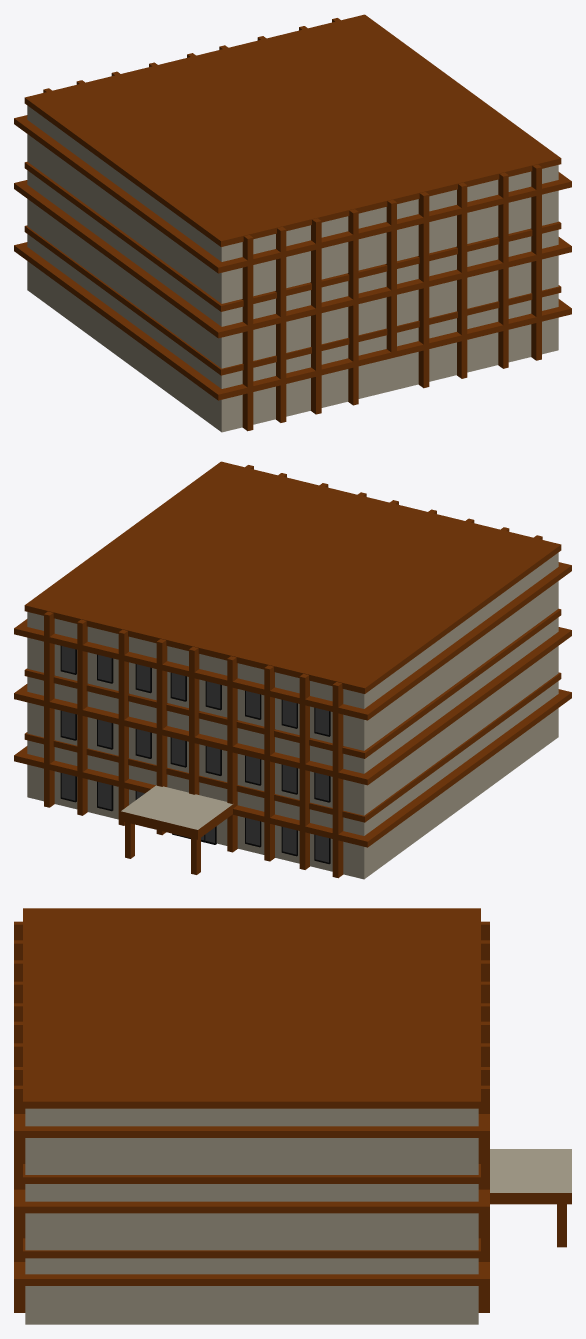
Rendered from phyedu.fbx.
The picture shows the model from 3 angles, top to bottom: view 1: azimuth 30°, elevation 25°; view 2: azimuth 150°, elevation 25°; view 3: azimuth 270°, elevation 25°; orthographic projection. The views are drawn at different scales.
Parts seen in each view (by area): view 1: polySurface60, polySurface236, polySurface38, polySurface137, polySurface37, polySurface136, polySurface331, polySurface159, polySurface258, polySurface339, polySurface332, polySurface337 (+6 smaller); view 2: polySurface60, polySurface38, polySurface137, polySurface236, polySurface37, polySurface136, polySurface331, polySurface159, pCube9, polySurface258, polySurface339, polySurface335 (+7 smaller); view 3: polySurface60, polySurface38, polySurface137, polySurface236, polySurface136, polySurface37, polySurface331, pCube9, polySurface258, polySurface159, polySurface337.
Boxes of the visible parts, bbox=[...] form: polySurface60: bbox=[24, 14, 561, 246]; polySurface236: bbox=[27, 234, 558, 432]; polySurface38: bbox=[27, 105, 558, 303]; polySurface137: bbox=[27, 170, 558, 368]; polySurface37: bbox=[14, 115, 571, 273]; polySurface136: bbox=[14, 180, 571, 338]; polySurface331: bbox=[14, 242, 571, 400]; polySurface159: bbox=[24, 161, 561, 311]; polySurface258: bbox=[24, 225, 561, 375]; polySurface339: bbox=[43, 88, 253, 431]; polySurface332: bbox=[219, 45, 429, 388]; polySurface337: bbox=[332, 18, 541, 360]; polySurface60: bbox=[24, 461, 561, 693]; polySurface38: bbox=[27, 552, 558, 750]; polySurface137: bbox=[27, 617, 558, 815]; polySurface236: bbox=[27, 681, 558, 879]; polySurface37: bbox=[14, 562, 571, 720]; polySurface136: bbox=[14, 627, 571, 785]; polySurface331: bbox=[14, 689, 571, 847]; polySurface159: bbox=[24, 608, 561, 758]; pCube9: bbox=[121, 785, 233, 839]; polySurface258: bbox=[24, 672, 561, 822]; polySurface339: bbox=[332, 535, 542, 878]; polySurface335: bbox=[77, 473, 286, 815]; polySurface60: bbox=[23, 908, 480, 1108]; polySurface38: bbox=[25, 1108, 478, 1174]; polySurface137: bbox=[25, 1184, 478, 1250]; polySurface236: bbox=[25, 1258, 478, 1324]; polySurface136: bbox=[14, 1189, 489, 1213]; polySurface37: bbox=[14, 1114, 489, 1137]; polySurface331: bbox=[14, 1262, 489, 1285]; pCube9: bbox=[490, 1149, 571, 1204]; polySurface258: bbox=[23, 1238, 480, 1258]; polySurface159: bbox=[23, 1164, 480, 1183]; polySurface337: bbox=[14, 1085, 489, 1312].
Size of the model in its own units: 3.15 by 1.64 by 3.69.
